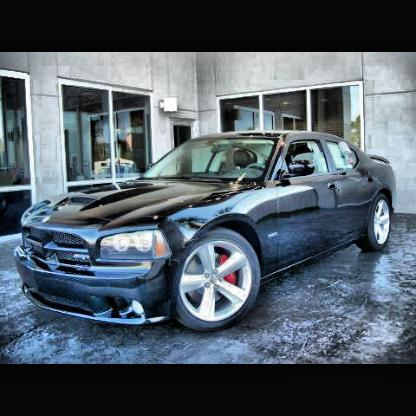Dodge Charger SRT-8 2009: (15, 130, 398, 335)
